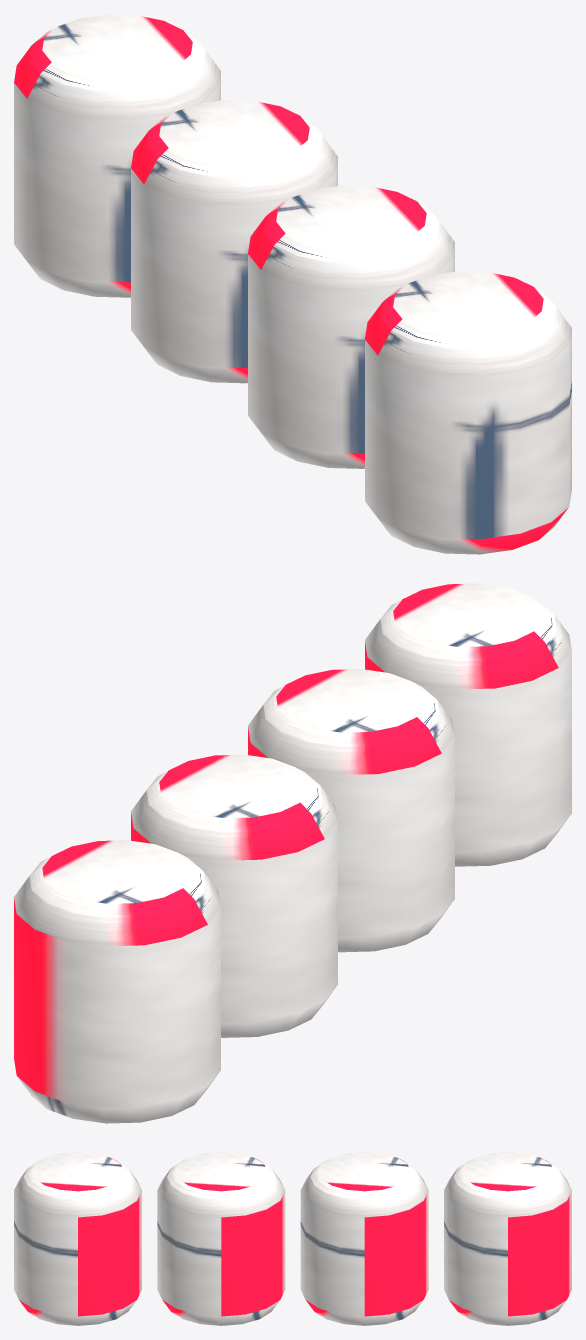
The model's file is Pink_Mentos.fbx.
The picture shows the model from 3 angles, top to bottom: view 1: azimuth 30°, elevation 25°; view 2: azimuth 150°, elevation 25°; view 3: azimuth 270°, elevation 25°; orthographic projection. The views are drawn at different scales.
Visible parts, largest first — view 1: pCylinder23; view 2: pCylinder23; view 3: pCylinder23.
Boxes of the visible parts, x1,y1,x2,y2 form: pCylinder23: (14, 14, 571, 554); pCylinder23: (14, 583, 571, 1123); pCylinder23: (14, 1152, 571, 1325).
Bounding box in the file's own units: 8.93 × 10.11 × 38.93.
